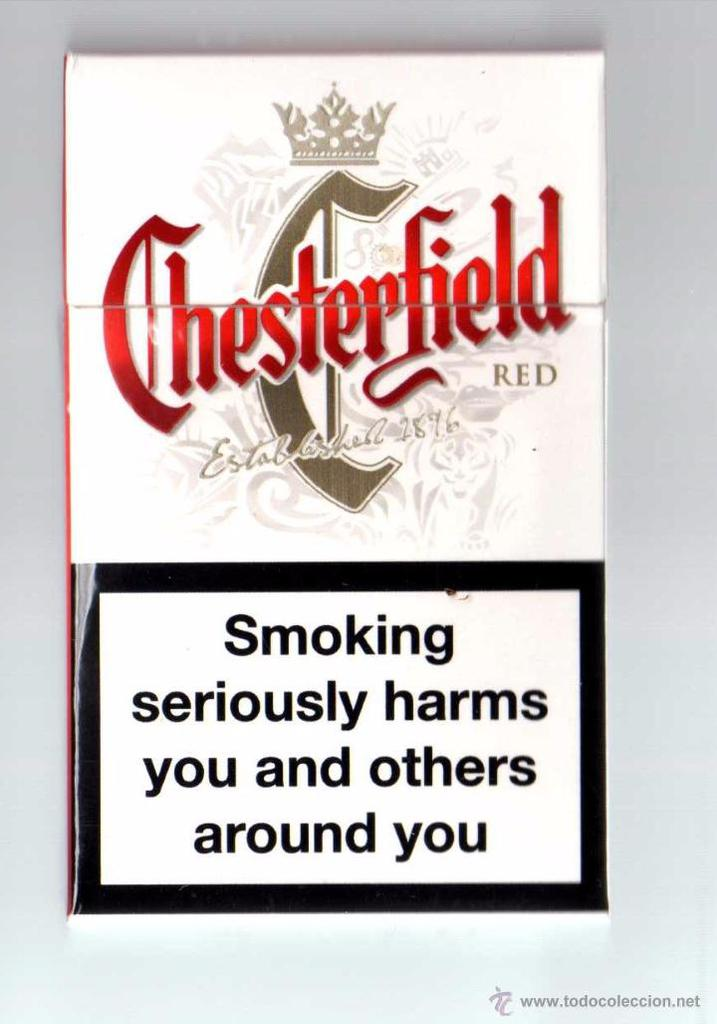chesterfield_red: (65, 62, 602, 910)
